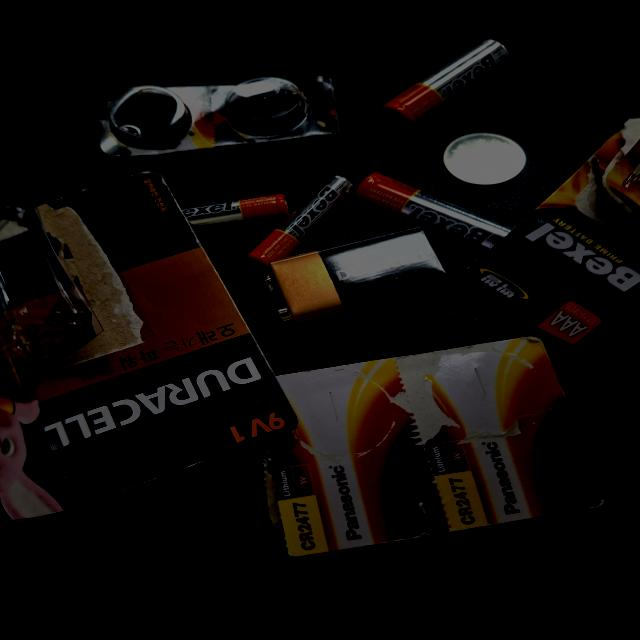9V: (301, 300, 439, 442)
AA: (228, 257, 339, 375), (51, 258, 178, 356)
AAA: (233, 374, 359, 454), (256, 423, 306, 502)
COIN: (175, 246, 249, 309)
